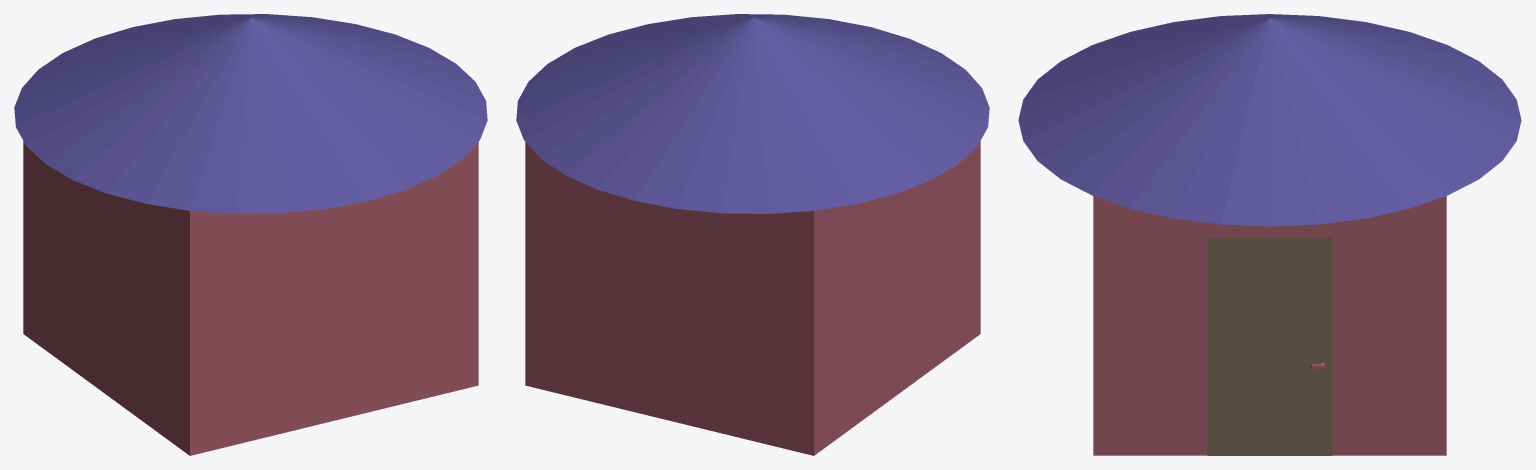
File: Hus.fbx
The picture shows the model from 3 angles, left to right: view 1: azimuth 30°, elevation 25°; view 2: azimuth 150°, elevation 25°; view 3: azimuth 270°, elevation 25°; orthographic projection. The views are drawn at different scales.
Visible parts, largest first — view 1: Hus; view 2: Hus; view 3: Hus.
Boxes of the visible parts, x1,y1,x2,y2 form: Hus: (14,14,487,455); Hus: (516,14,989,455); Hus: (1018,14,1521,455).
Size of the model in its own units: 447 by 356 by 447.
